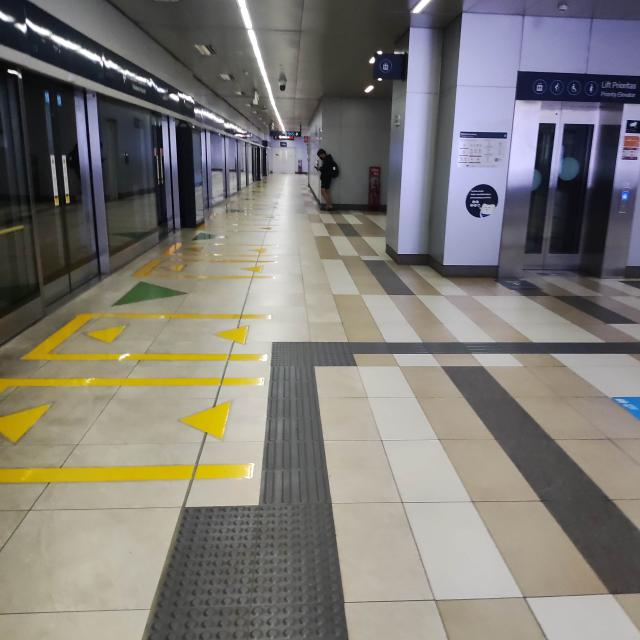kanan: (249, 323, 415, 386)
